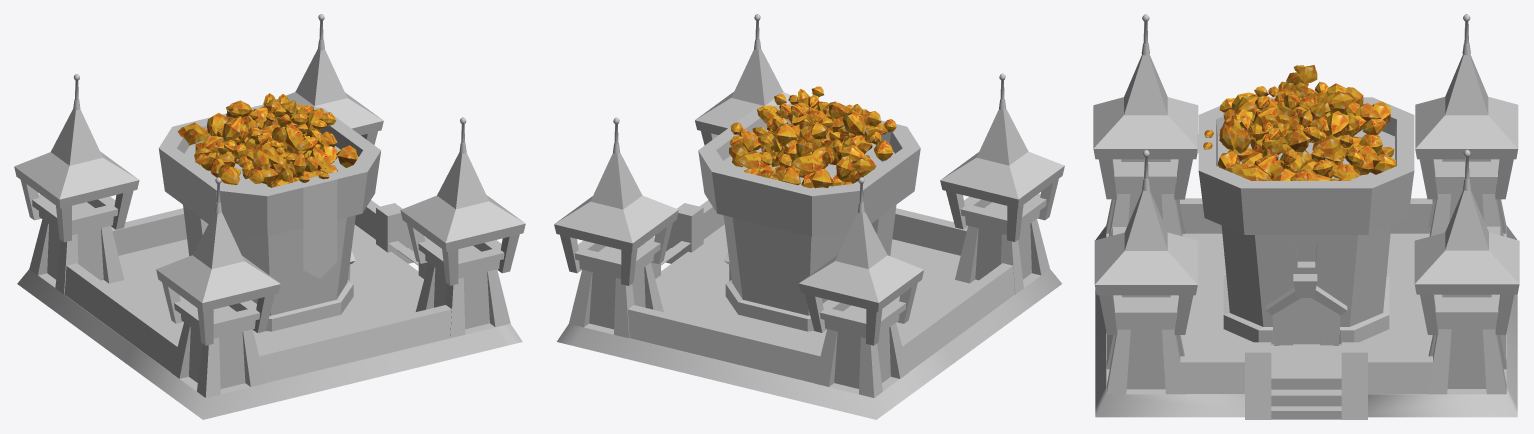
File: Clan_Storage.fbx
The picture shows the model from 3 angles, left to right: view 1: azimuth 30°, elevation 25°; view 2: azimuth 150°, elevation 25°; view 3: azimuth 270°, elevation 25°; orthographic projection. The views are drawn at different scales.
Visible parts, largest first — view 1: Clan_Storage; view 2: Clan_Storage; view 3: Clan_Storage.
Part boxes in pixels (bbox=[...]): Clan_Storage: bbox=[14, 14, 525, 419]; Clan_Storage: bbox=[554, 14, 1064, 419]; Clan_Storage: bbox=[1093, 14, 1519, 419].
Size of the model in its own units: 20.52 by 13.04 by 20.36.
